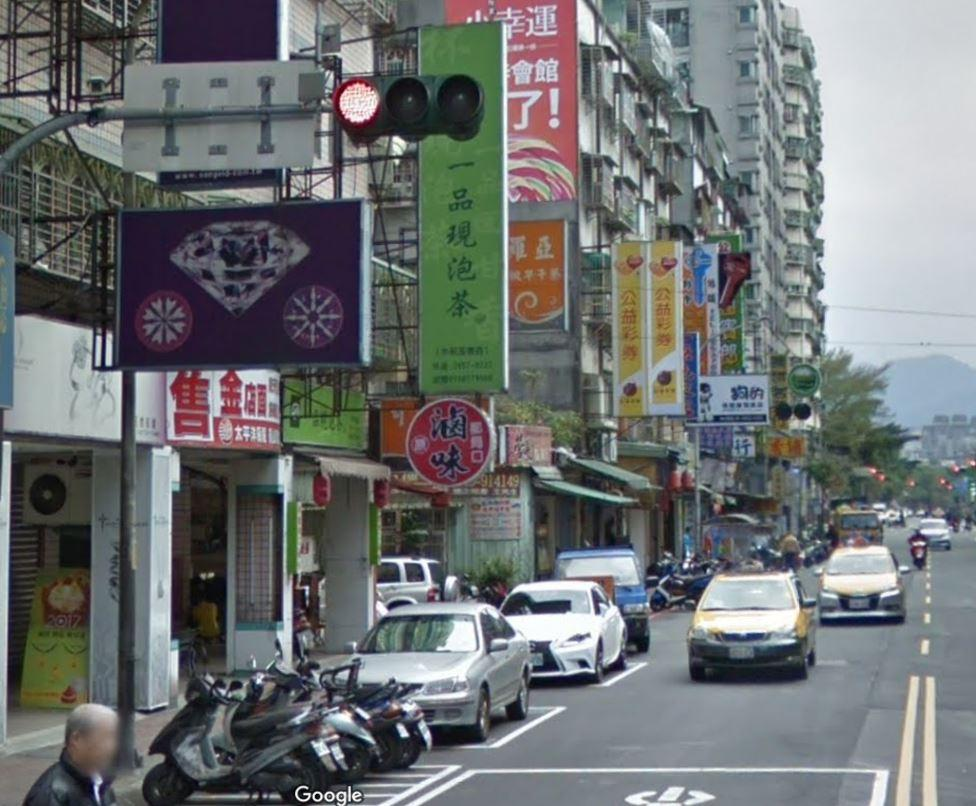red_traffic_light: (332, 73, 486, 135)
